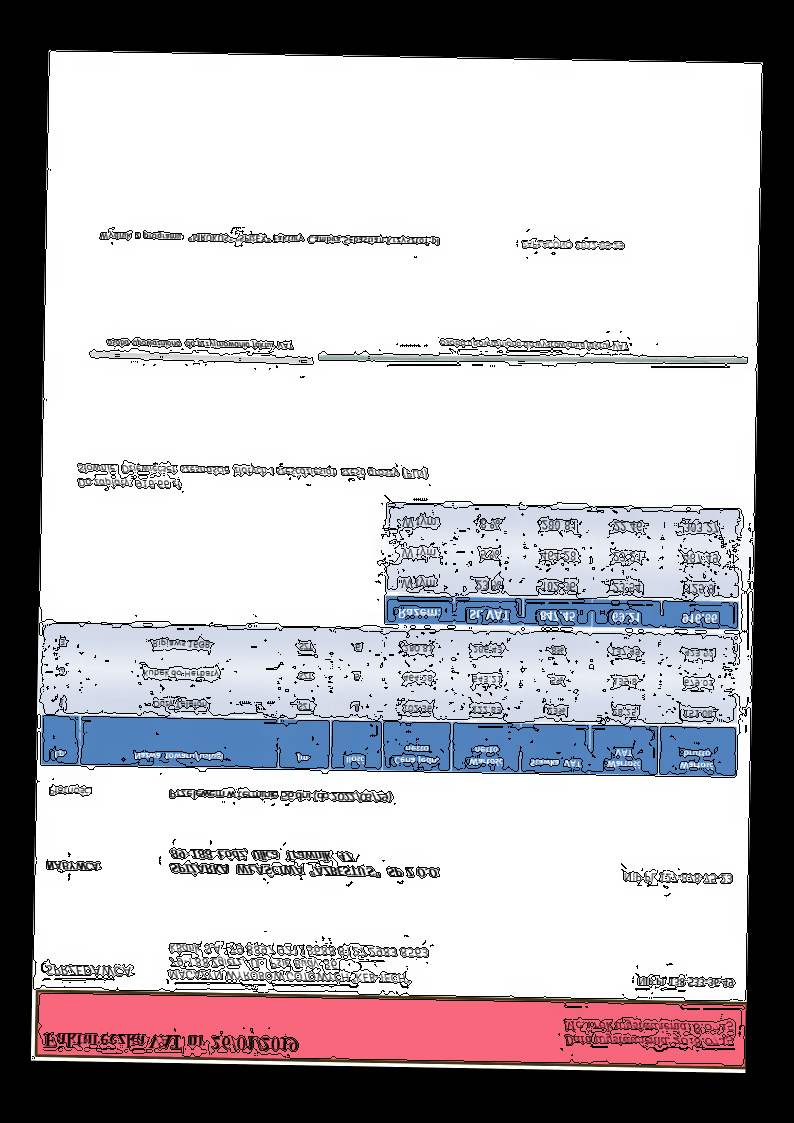Table: (39, 621, 740, 778), (384, 501, 742, 631)
TextBox: (75, 460, 429, 495), (166, 940, 430, 986), (167, 846, 443, 883), (97, 227, 441, 250), (42, 1030, 301, 1056), (561, 1016, 736, 1051), (167, 786, 392, 805), (105, 335, 296, 353), (436, 337, 630, 354), (619, 869, 732, 888), (519, 237, 625, 254), (634, 974, 735, 991), (42, 962, 135, 980), (43, 858, 101, 875), (46, 784, 94, 800)
